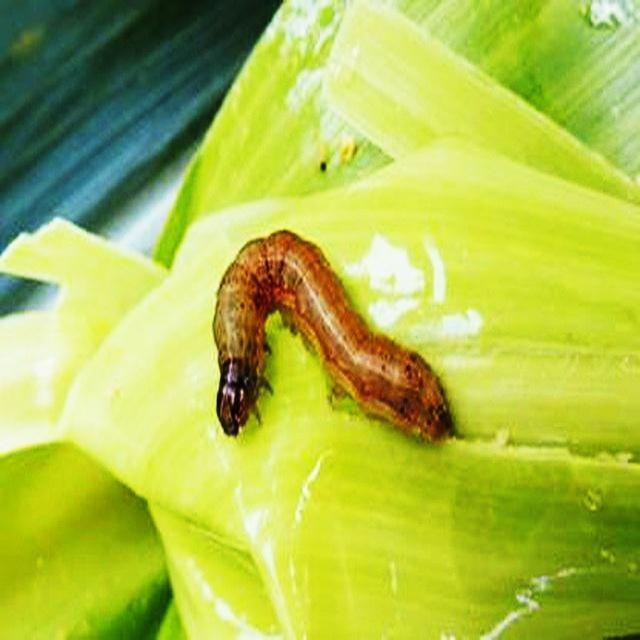gusano_cogollero: (211, 224, 464, 445)
